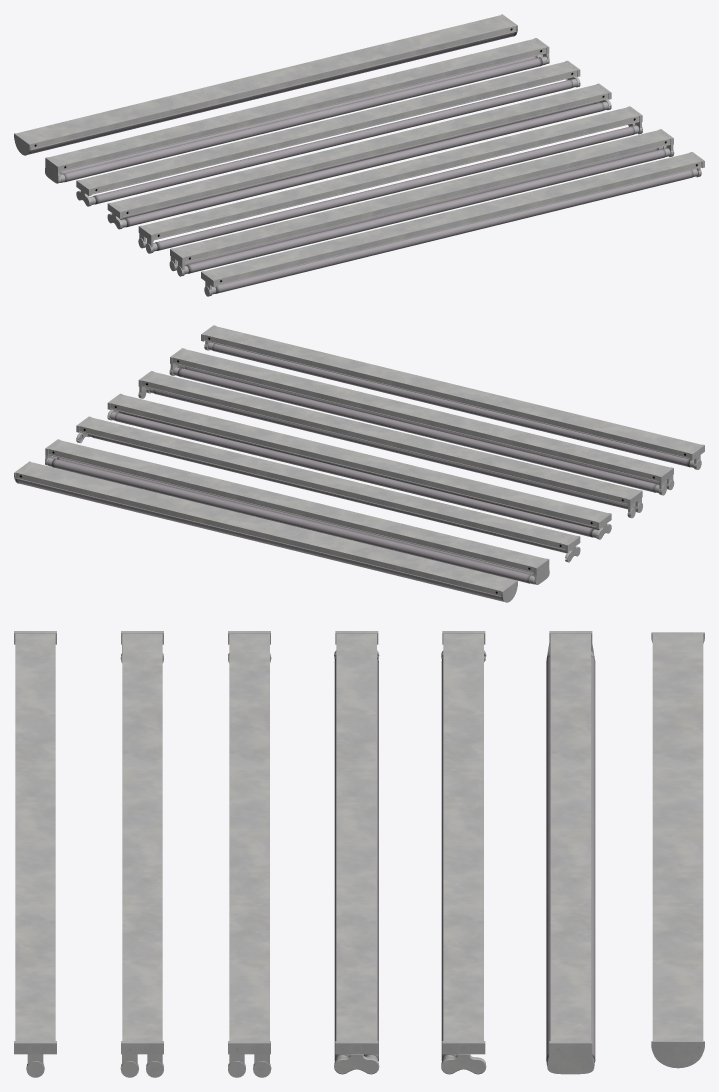
File: mounted_fluorescent_lights_1k.gltf
The picture shows the model from 3 angles, top to bottom: view 1: azimuth 30°, elevation 25°; view 2: azimuth 150°, elevation 25°; view 3: azimuth 270°, elevation 25°; orthographic projection. The views are drawn at different scales.
Visible parts, largest first — view 1: mounted_fluorescent_lights_b, mounted_fluorescent_lights_f, mounted_fluorescent_lights_d, mounted_fluorescent_lights_c, mounted_fluorescent_lights_e, mounted_fluorescent_lights_a, mounted_fluorescent_lights_g; view 2: mounted_fluorescent_lights_b, mounted_fluorescent_lights_f, mounted_fluorescent_lights_d, mounted_fluorescent_lights_a, mounted_fluorescent_lights_g, mounted_fluorescent_lights_c, mounted_fluorescent_lights_e; view 3: mounted_fluorescent_lights_g, mounted_fluorescent_lights_f, mounted_fluorescent_lights_d, mounted_fluorescent_lights_e, mounted_fluorescent_lights_b, mounted_fluorescent_lights_c, mounted_fluorescent_lights_a.
Boxes of the visible parts, x1,y1,x2,y2 form: mounted_fluorescent_lights_b: (169, 129, 674, 276); mounted_fluorescent_lights_f: (45, 38, 549, 183); mounted_fluorescent_lights_d: (107, 83, 611, 229); mounted_fluorescent_lights_c: (138, 106, 642, 253); mounted_fluorescent_lights_e: (76, 60, 580, 206); mounted_fluorescent_lights_a: (201, 152, 704, 296); mounted_fluorescent_lights_g: (14, 14, 517, 155); mounted_fluorescent_lights_b: (169, 348, 674, 495); mounted_fluorescent_lights_f: (45, 439, 549, 584); mounted_fluorescent_lights_d: (107, 393, 611, 539); mounted_fluorescent_lights_a: (201, 325, 704, 469); mounted_fluorescent_lights_g: (14, 461, 517, 602); mounted_fluorescent_lights_c: (138, 371, 642, 518); mounted_fluorescent_lights_e: (76, 416, 580, 562); mounted_fluorescent_lights_g: (651, 632, 704, 1068); mounted_fluorescent_lights_f: (546, 631, 595, 1074); mounted_fluorescent_lights_d: (334, 631, 379, 1074); mounted_fluorescent_lights_e: (441, 631, 486, 1074); mounted_fluorescent_lights_b: (120, 631, 163, 1077); mounted_fluorescent_lights_c: (228, 631, 271, 1077); mounted_fluorescent_lights_a: (14, 631, 56, 1077).
Size of the model in its own units: 0.9122 by 0.0354 by 0.6454.
Materials: 2 (2 with a texture image).
